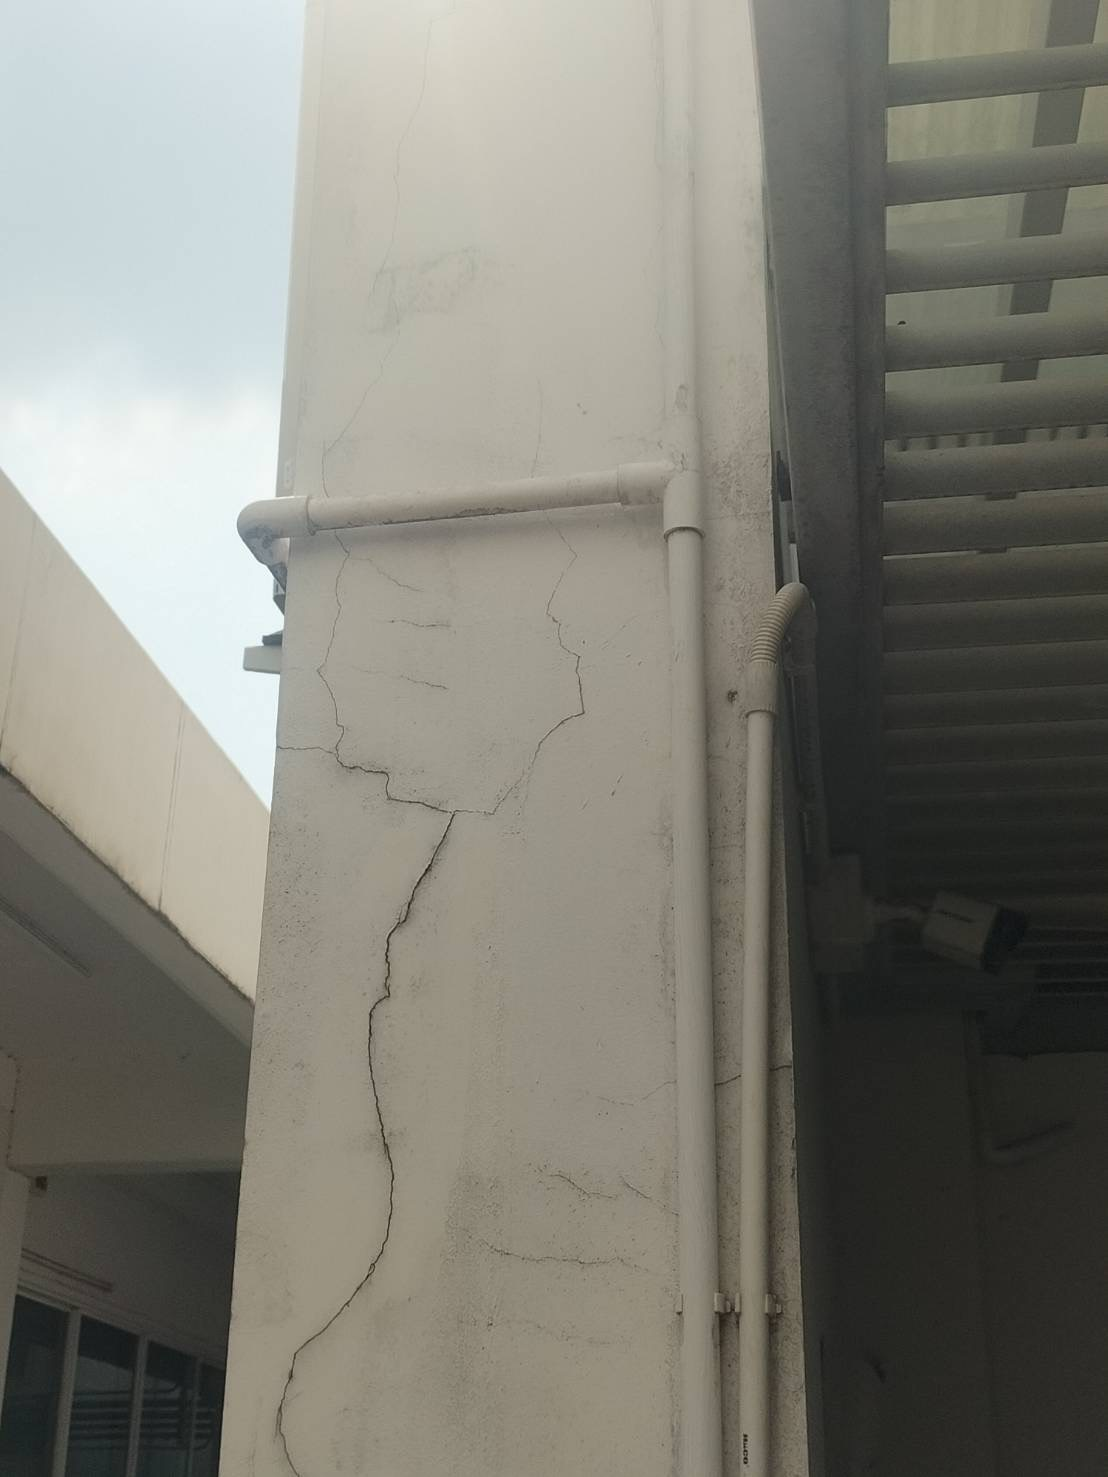Low: (290, 539, 608, 1474)
